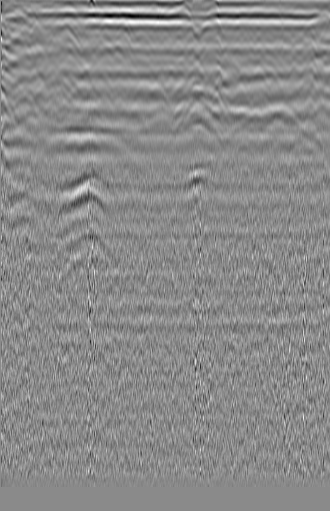상수: (284, 29, 323, 58)
오수: (0, 22, 42, 56)
우수: (109, 23, 139, 47)
